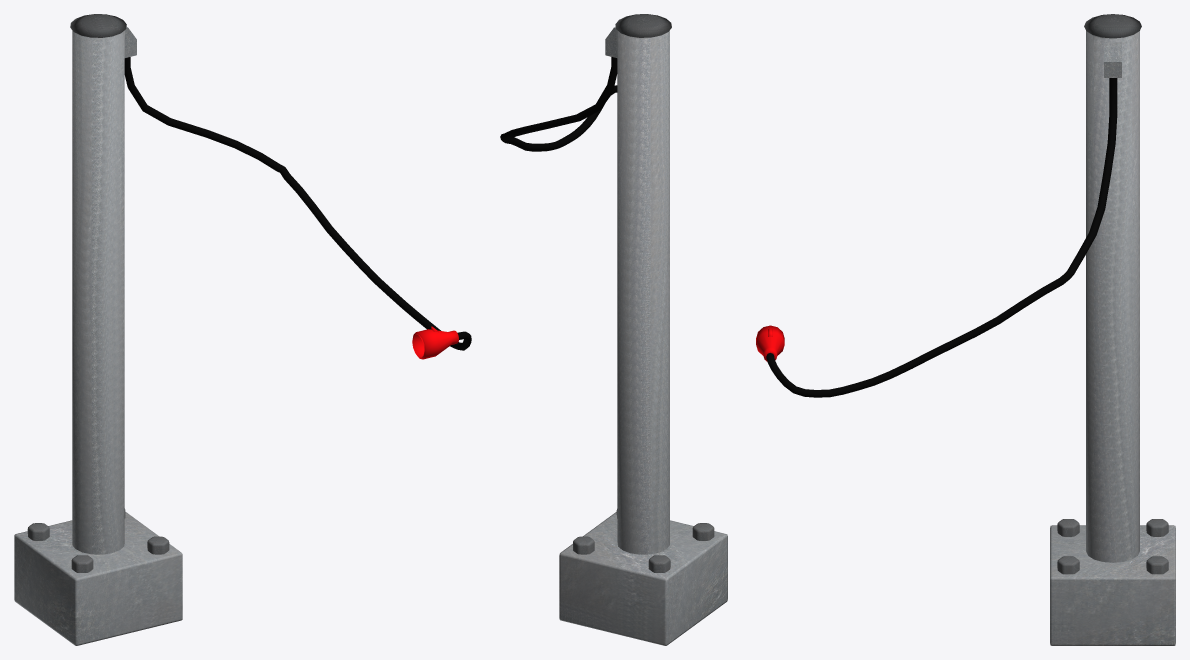
Rendered from installation1.fbx.
3 views of the same model, side by side, from view 1: azimuth 30°, elevation 25°; view 2: azimuth 150°, elevation 25°; view 3: azimuth 270°, elevation 25° (orthographic).
Parts seen in each view (by area): view 1: generator.001; view 2: generator.001; view 3: generator.001.
Boxes of the visible parts, x1=… form: generator.001: x1=14, y1=14, x2=471, y2=645; generator.001: x1=500, y1=14, x2=727, y2=645; generator.001: x1=756, y1=14, x2=1175, y2=645.
Size of the model in its own units: 247 by 527 by 334.
